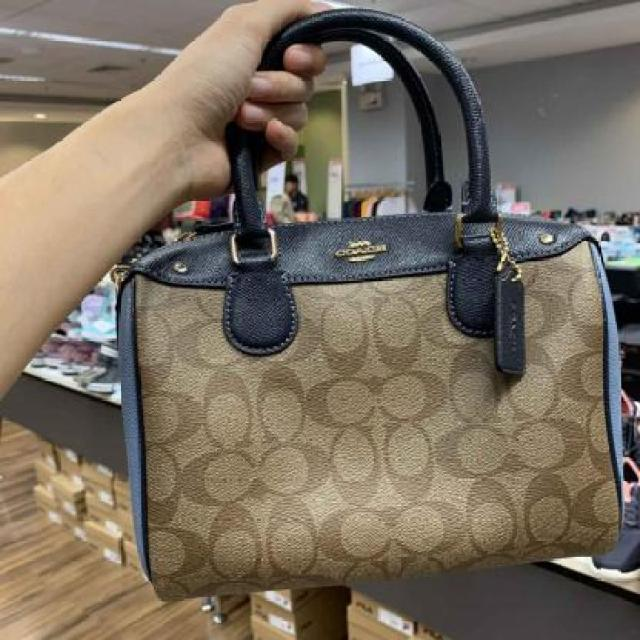Bag: (94, 0, 640, 632)
